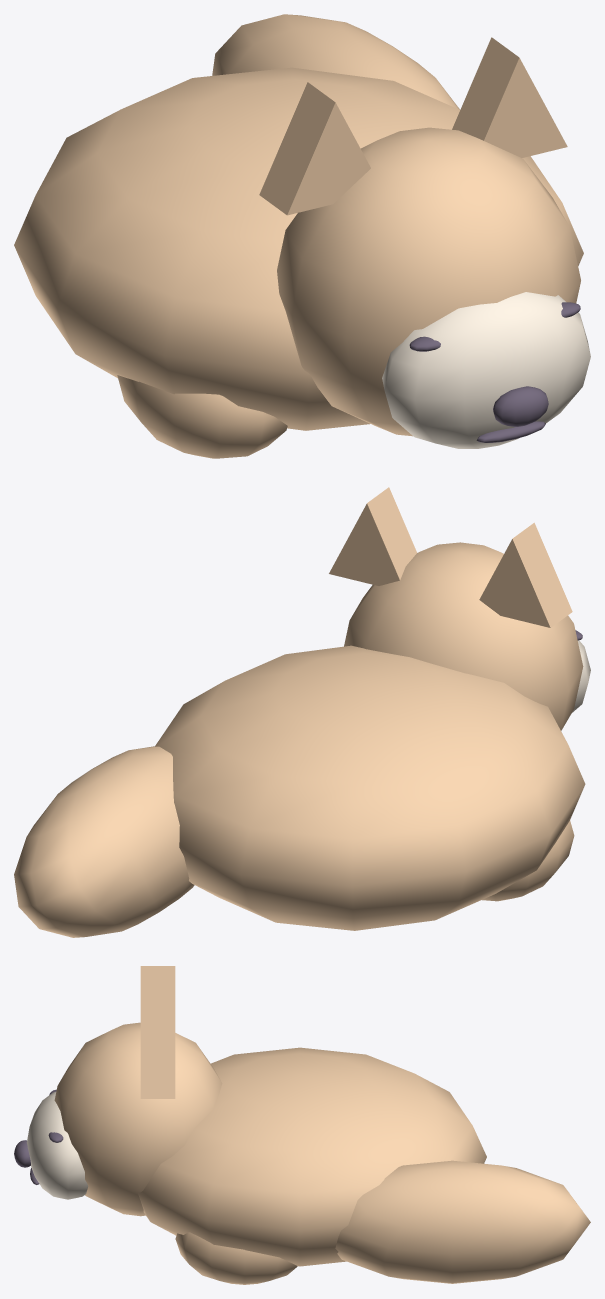
File: cat-reflection.glb
3 views of the same model, one above another, from view 1: azimuth 30°, elevation 25°; view 2: azimuth 150°, elevation 25°; view 3: azimuth 270°, elevation 25° (orthographic). The views are drawn at different scales.
Visible parts, largest first — view 1: cat reflection offline illustration; view 2: cat reflection offline illustration; view 3: cat reflection offline illustration.
Boxes of the visible parts, <box> form: cat reflection offline illustration: <box>14,14,590,458</box>; cat reflection offline illustration: <box>14,487,590,937</box>; cat reflection offline illustration: <box>14,966,590,1284</box>.
Size of the model in its own units: 0.5195 by 0.39 by 0.833.
